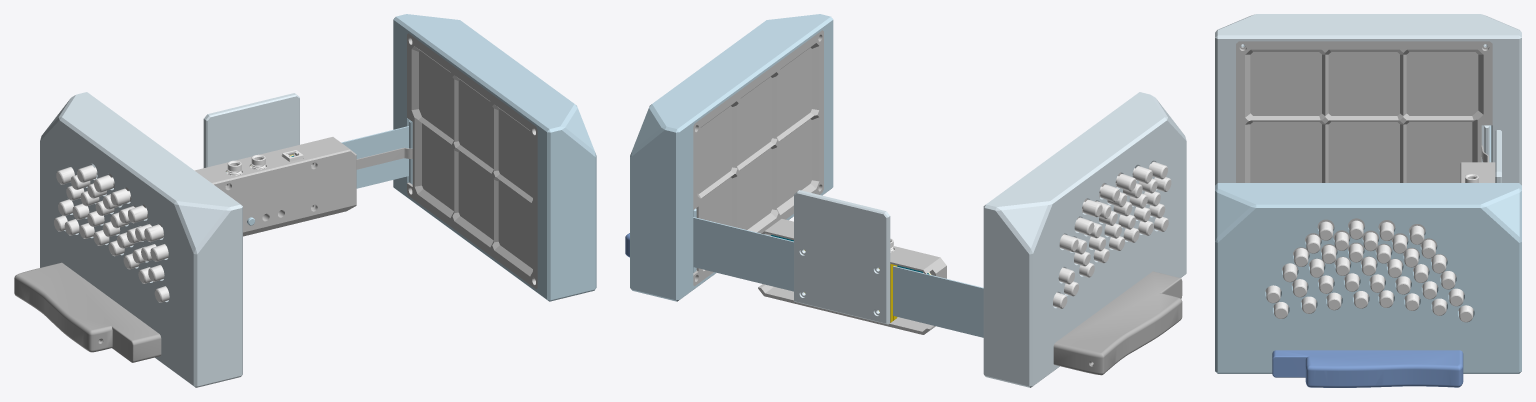
Rendered from Bandolibre_preview.glb.
3 views of the same model, side by side, from view 1: azimuth 30°, elevation 25°; view 2: azimuth 150°, elevation 25°; view 3: azimuth 270°, elevation 25° (orthographic).
Visible parts, largest first — view 1: Left Cover; view 2: Left Cover; view 3: Left Cover.
Boxes of the visible parts, x1,y1,x2,y2 form: Left Cover: (14, 14, 596, 387); Left Cover: (625, 14, 1186, 387); Left Cover: (1215, 14, 1521, 387).
Size of the model in its own units: 0.416 by 0.14 by 0.23.
1 material, 1 textured.
